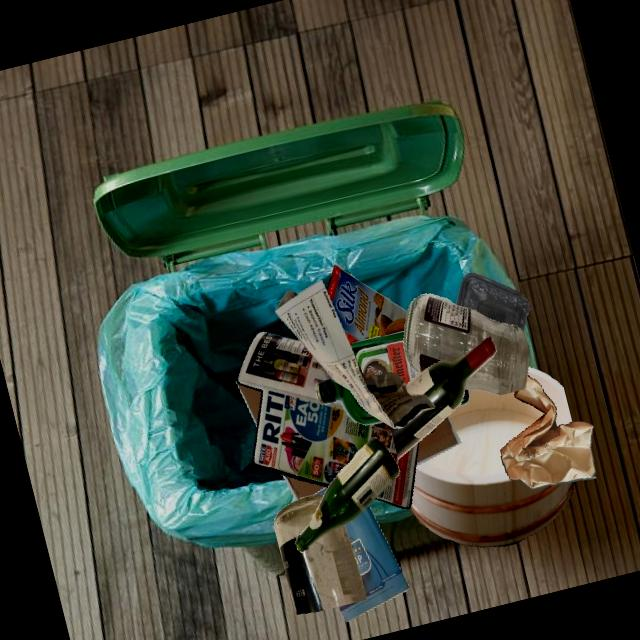cardboard: (261, 298, 448, 486), (326, 264, 407, 340)
combustible waste: (409, 389, 574, 546)
glass: (390, 336, 496, 459), (403, 293, 529, 395), (295, 436, 399, 552), (274, 493, 367, 614), (349, 330, 419, 383), (367, 378, 464, 416), (315, 378, 367, 421)
paper: (236, 331, 418, 508), (274, 280, 435, 428), (501, 374, 596, 489), (338, 504, 409, 622)
plastic: (455, 272, 530, 332)
